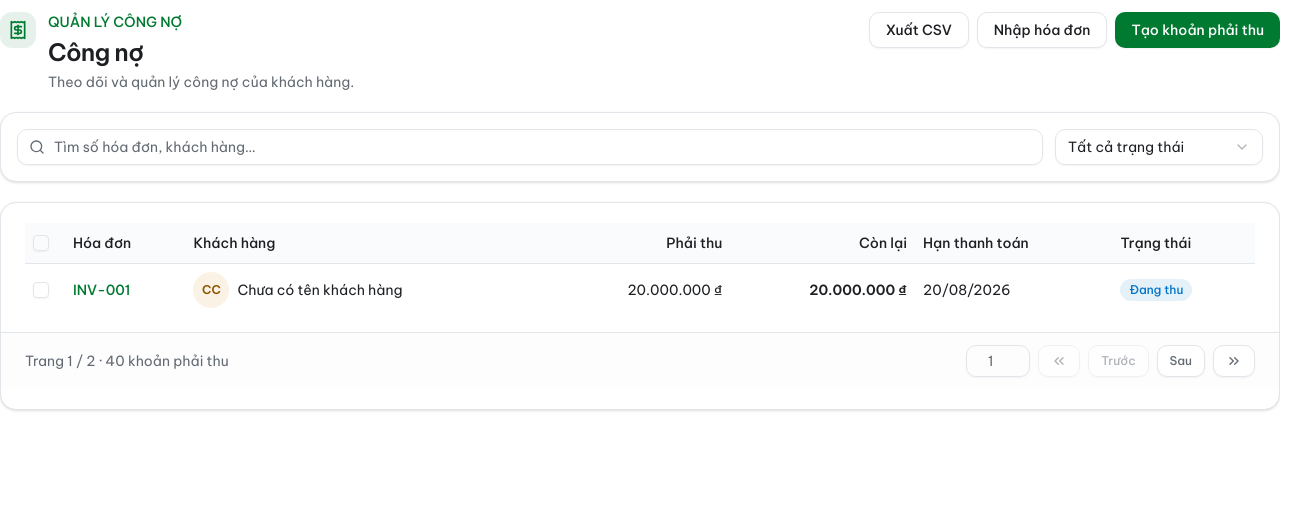
Test: ReceivablesPage › drops the bulk selection while the next page loads
Click the checkbox named "Chọn INV-001" at {"x": 41, "y": 290}, box [33, 282, 49, 298]
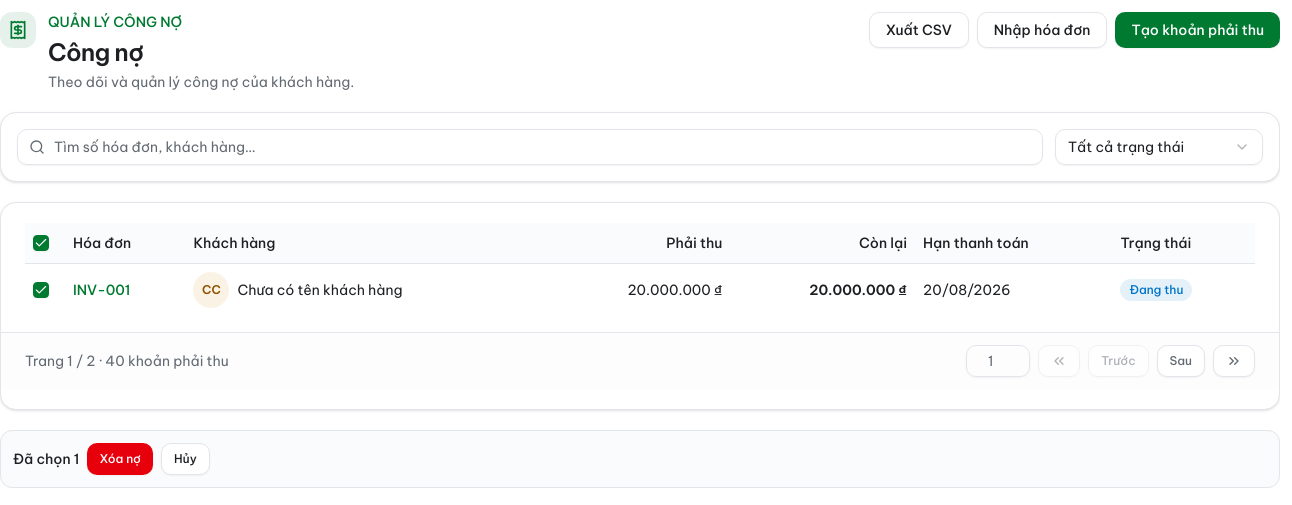
Expected: the text "Đã chọn 1" is shown, [13, 448, 80, 468]
Click the button "Sau" at {"x": 1181, "y": 360}, box [1157, 344, 1205, 376]
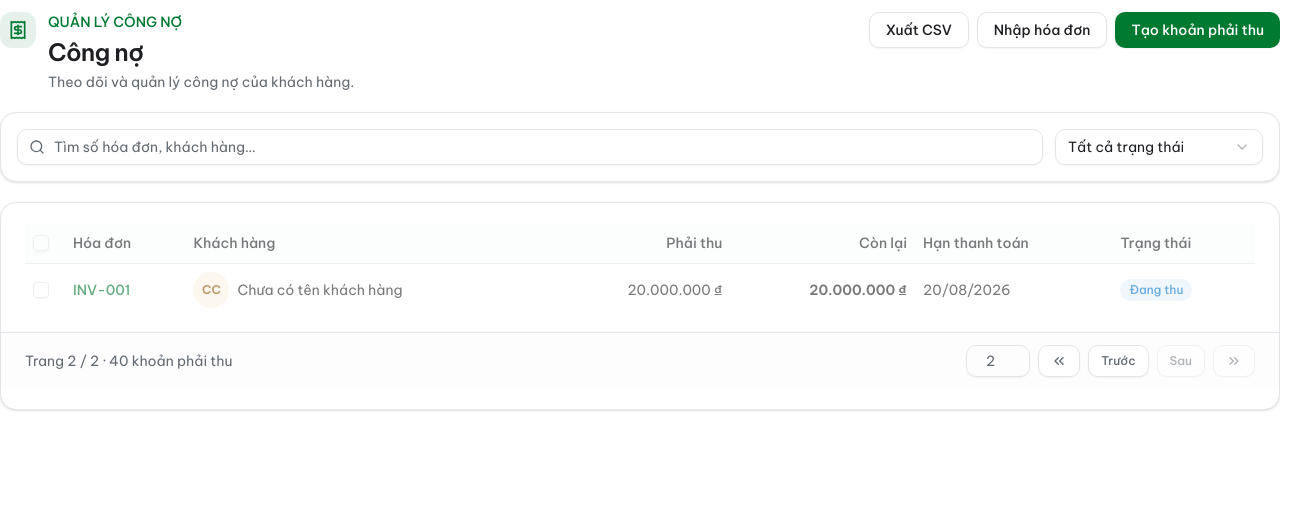
Expected: the text "Đã chọn 1" is gone
